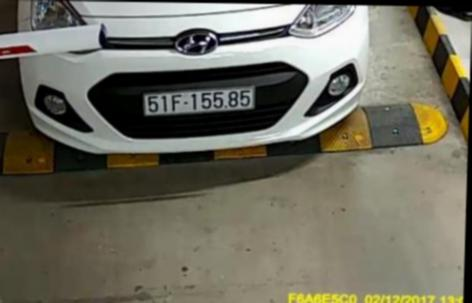License_Plate: (133, 86, 267, 123)
